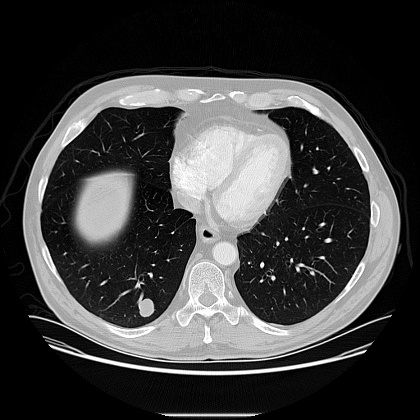PN: (138, 299, 154, 315)
